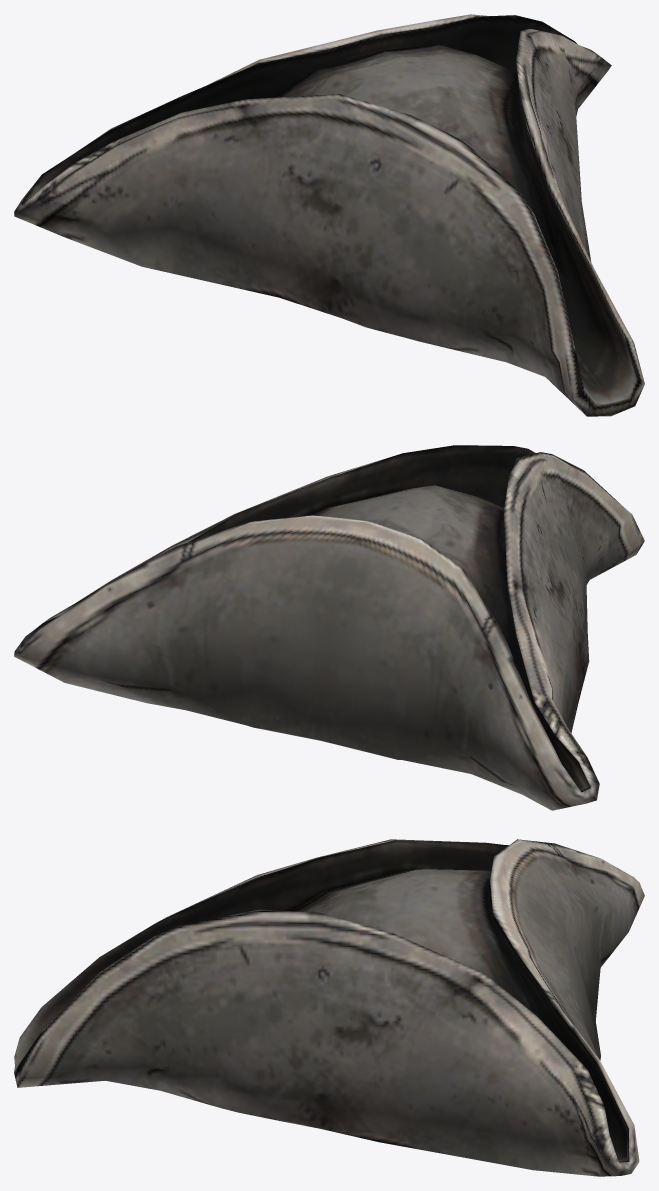
File: PirateHat_WorldItem.fbx
3 views of the same model, one above another, from view 1: azimuth 30°, elevation 25°; view 2: azimuth 150°, elevation 25°; view 3: azimuth 270°, elevation 25° (orthographic).
Visible parts, largest first — view 1: BL2_X360_PROP_Pirate_Hat; view 2: BL2_X360_PROP_Pirate_Hat; view 3: BL2_X360_PROP_Pirate_Hat.
Part boxes in pixels (left/top/right/bottom): BL2_X360_PROP_Pirate_Hat: left=14, top=14, right=644, bottom=416; BL2_X360_PROP_Pirate_Hat: left=14, top=445, right=644, bottom=810; BL2_X360_PROP_Pirate_Hat: left=14, top=839, right=644, bottom=1176.
Size of the model in its own units: 0.2477 by 0.0829 by 0.2303.
